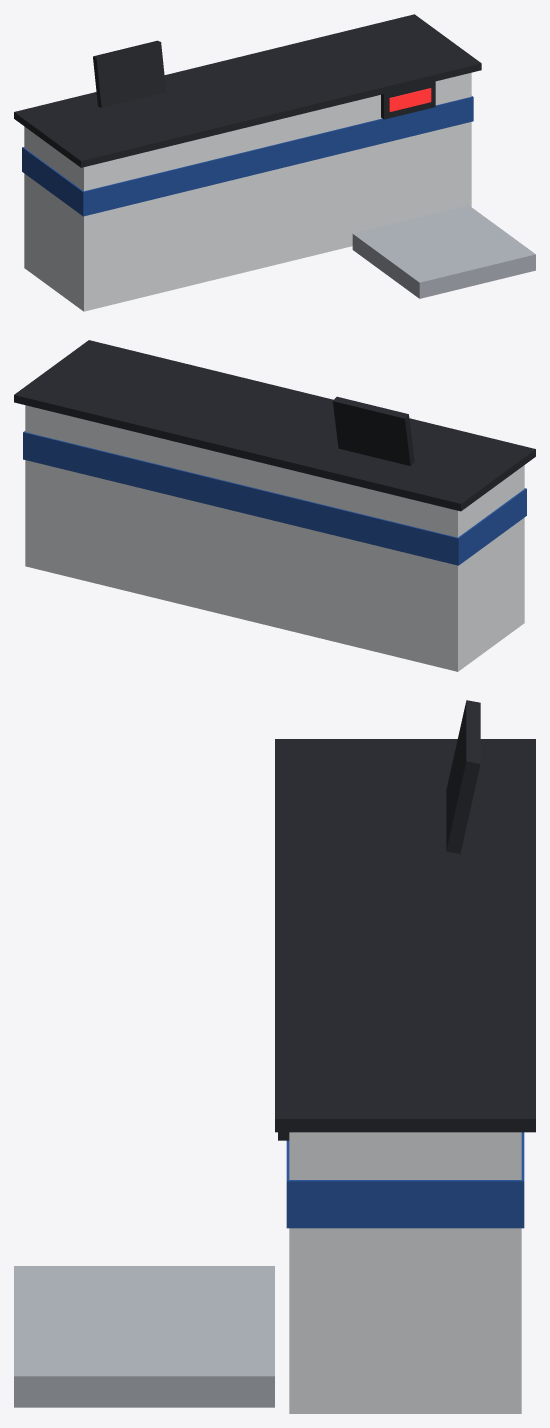
The model's file is checkin_counter.glb.
The picture shows the model from 3 angles, top to bottom: view 1: azimuth 30°, elevation 25°; view 2: azimuth 150°, elevation 25°; view 3: azimuth 270°, elevation 25°; orthographic projection. The views are drawn at different scales.
Parts seen in each view (by area): view 1: body_airport_white, top_airport_dark, band_airport_blue, scale_scale_steel, screen_airport_dark, display_airport_dark, digits_scale_red; view 2: body_airport_white, top_airport_dark, band_airport_blue, screen_airport_dark; view 3: top_airport_dark, body_airport_white, scale_scale_steel, band_airport_blue, screen_airport_dark.
Boxes of the visible parts, <box> form: body_airport_white: <box>24,72,471,311</box>; top_airport_dark: <box>14,14,481,167</box>; band_airport_blue: <box>22,96,473,216</box>; scale_scale_steel: <box>352,205,535,298</box>; screen_airport_dark: <box>93,40,166,107</box>; display_airport_dark: <box>381,81,435,119</box>; digits_scale_red: <box>389,88,431,111</box>; body_airport_white: <box>25,405,524,671</box>; top_airport_dark: <box>14,340,535,511</box>; band_airport_blue: <box>23,431,526,565</box>; screen_airport_dark: <box>332,396,414,465</box>; top_airport_dark: <box>275,739,535,1132</box>; body_airport_white: <box>289,1132,521,1413</box>; scale_scale_steel: <box>14,1266,274,1407</box>; band_airport_blue: <box>286,1132,524,1228</box>; screen_airport_dark: <box>446,700,480,853</box>.
Size of the model in its own units: 3.1 by 1.53 by 1.8.
